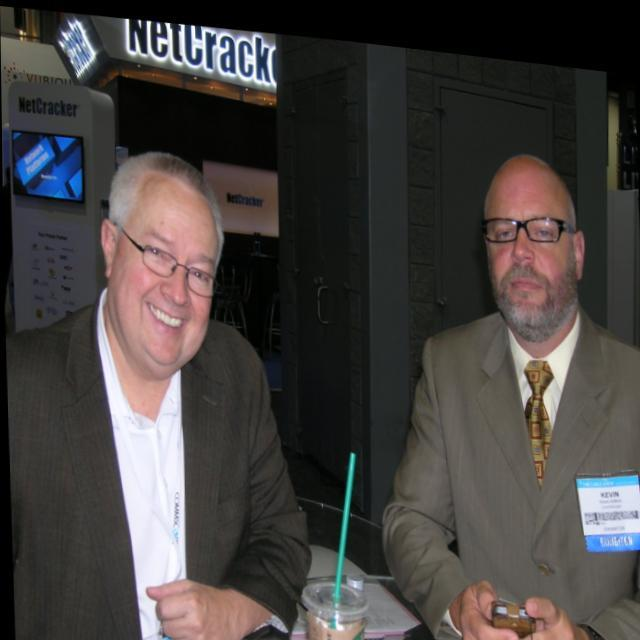Nonhelmet: (98, 147, 227, 375), (463, 138, 596, 339)
